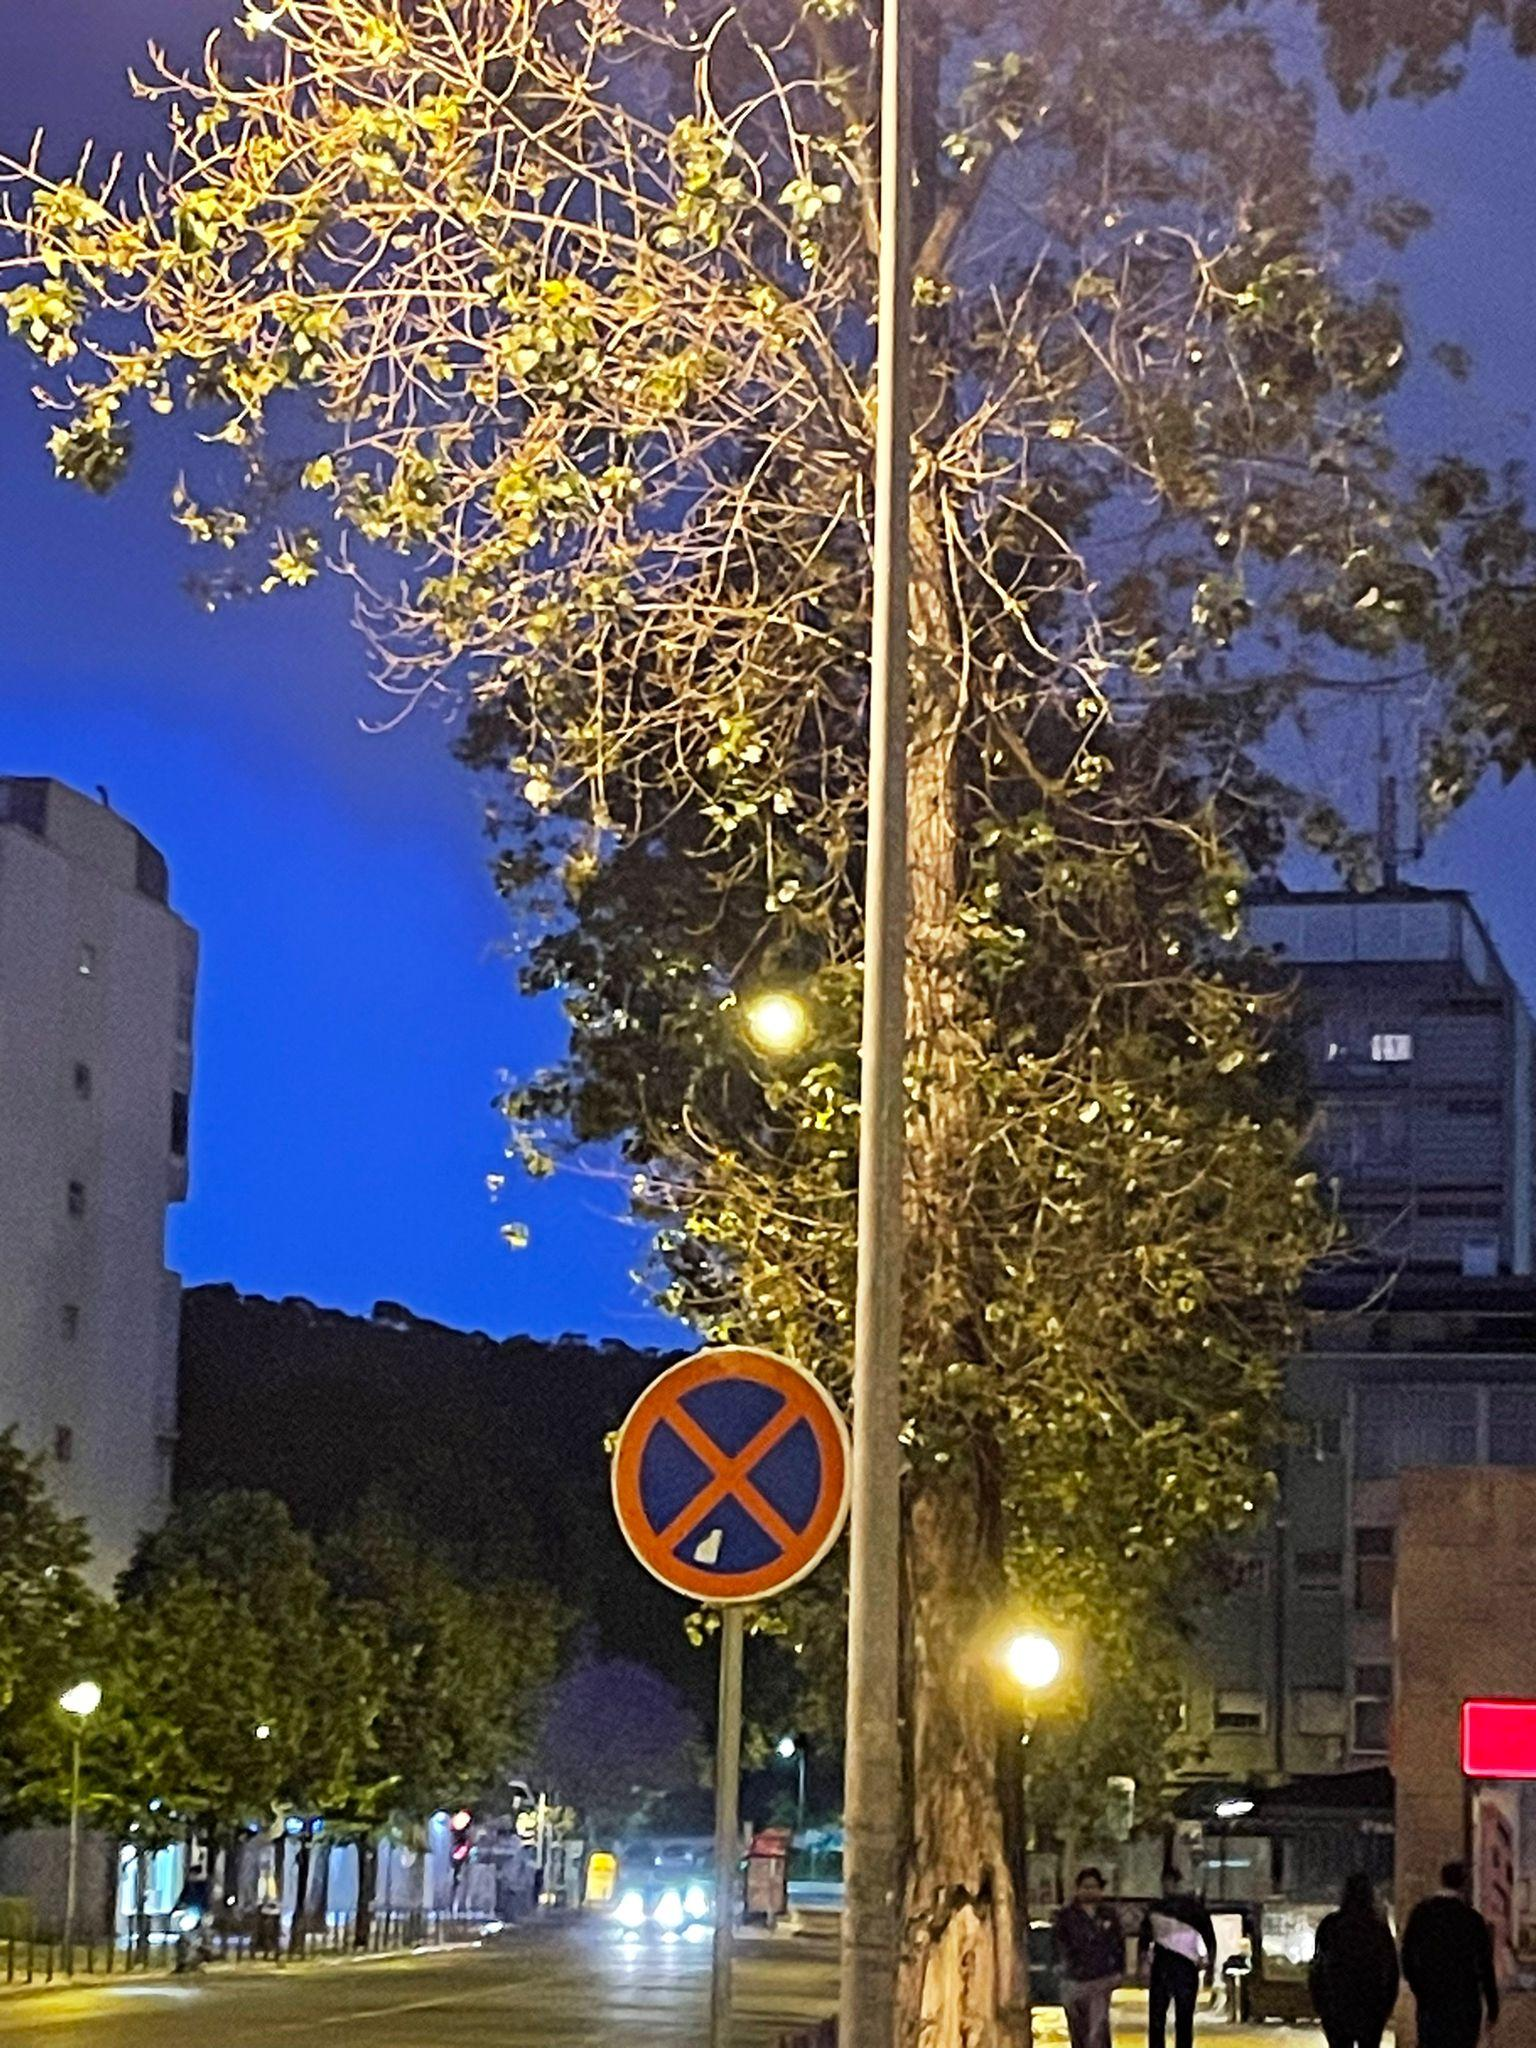paragem e estacionamento proibido: (600, 1345, 854, 1606)
